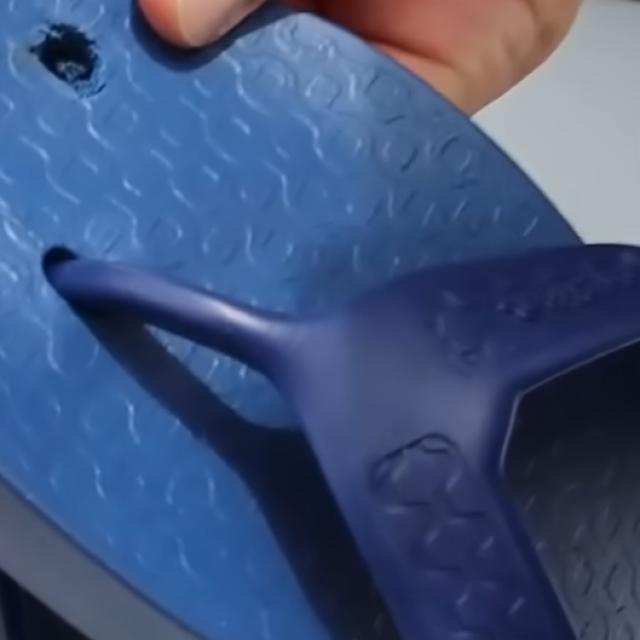bullets: (13, 0, 114, 99)
